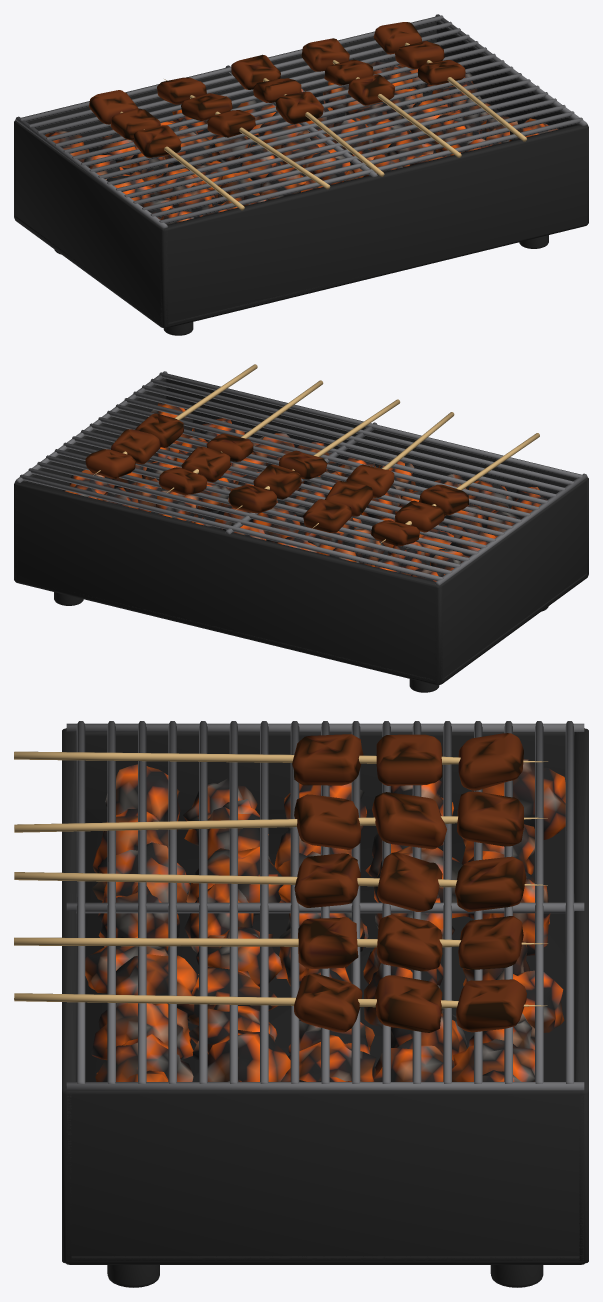
The model's file is paso-4.glb.
The picture shows the model from 3 angles, top to bottom: view 1: azimuth 30°, elevation 25°; view 2: azimuth 150°, elevation 25°; view 3: azimuth 270°, elevation 25°; orthographic projection. The views are drawn at different scales.
Parts seen in each view (by area): view 1: paso-4-0, paso-4-47, paso-4-59, paso-4-51, paso-4-57, paso-4-61, paso-4-63, paso-4-65, paso-4-49, paso-4-54, paso-4-55, paso-4-66 (+25 smaller); view 2: paso-4-0, paso-4-47, paso-4-53, paso-4-62, paso-4-65, paso-4-66, paso-4-57, paso-4-58, paso-4-54, paso-4-50, paso-4-61, paso-4-51 (+16 smaller); view 3: paso-4-0, paso-4-47, paso-4-1, paso-4-54, paso-4-57, paso-4-66, paso-4-51, paso-4-50, paso-4-53, paso-4-65, paso-4-62, paso-4-49 (+41 smaller).
Part boxes in pixels (x1,y1,x2,y2): paso-4-0: (14, 17, 588, 335); paso-4-47: (15, 14, 587, 228); paso-4-59: (275, 91, 323, 124); paso-4-51: (133, 125, 181, 158); paso-4-57: (231, 54, 280, 89); paso-4-61: (301, 38, 349, 71); paso-4-63: (348, 74, 394, 105); paso-4-65: (373, 22, 421, 54); paso-4-49: (89, 90, 137, 124); paso-4-54: (181, 93, 232, 120); paso-4-55: (207, 110, 255, 137); paso-4-66: (395, 41, 444, 69); paso-4-0: (14, 374, 588, 692); paso-4-47: (15, 371, 587, 585); paso-4-53: (303, 499, 351, 532); paso-4-62: (181, 446, 230, 482); paso-4-65: (85, 449, 136, 478); paso-4-66: (111, 429, 160, 464); paso-4-57: (228, 485, 276, 513); paso-4-58: (253, 464, 301, 499); paso-4-54: (325, 481, 373, 516); paso-4-50: (395, 500, 444, 532); paso-4-61: (159, 467, 207, 495); paso-4-51: (419, 484, 468, 515); paso-4-0: (62, 728, 588, 1287); paso-4-47: (66, 721, 584, 1090); paso-4-1: (85, 809, 565, 1081); paso-4-54: (372, 792, 446, 849); paso-4-57: (455, 856, 526, 911); paso-4-66: (374, 975, 442, 1032); paso-4-51: (292, 734, 363, 785); paso-4-50: (376, 734, 442, 785); paso-4-53: (457, 791, 523, 846); paso-4-65: (456, 979, 526, 1032); paso-4-62: (376, 914, 442, 971); paso-4-49: (458, 733, 523, 790).
Size of the model in its own units: 0.36 by 0.1212 by 0.24.
